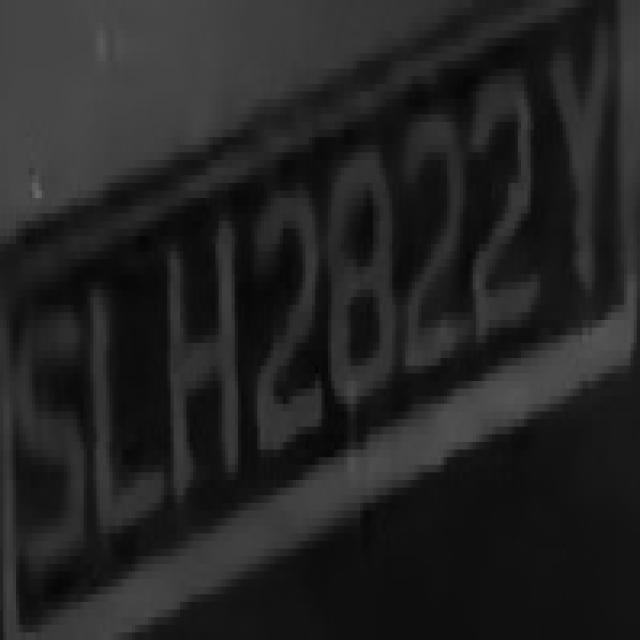2: (238, 175, 328, 488), (389, 91, 473, 396), (463, 76, 547, 374)
8: (308, 137, 396, 434)
H: (158, 183, 254, 548)
L: (87, 259, 170, 556)
S: (13, 305, 93, 571)
Y: (544, 0, 627, 328)
